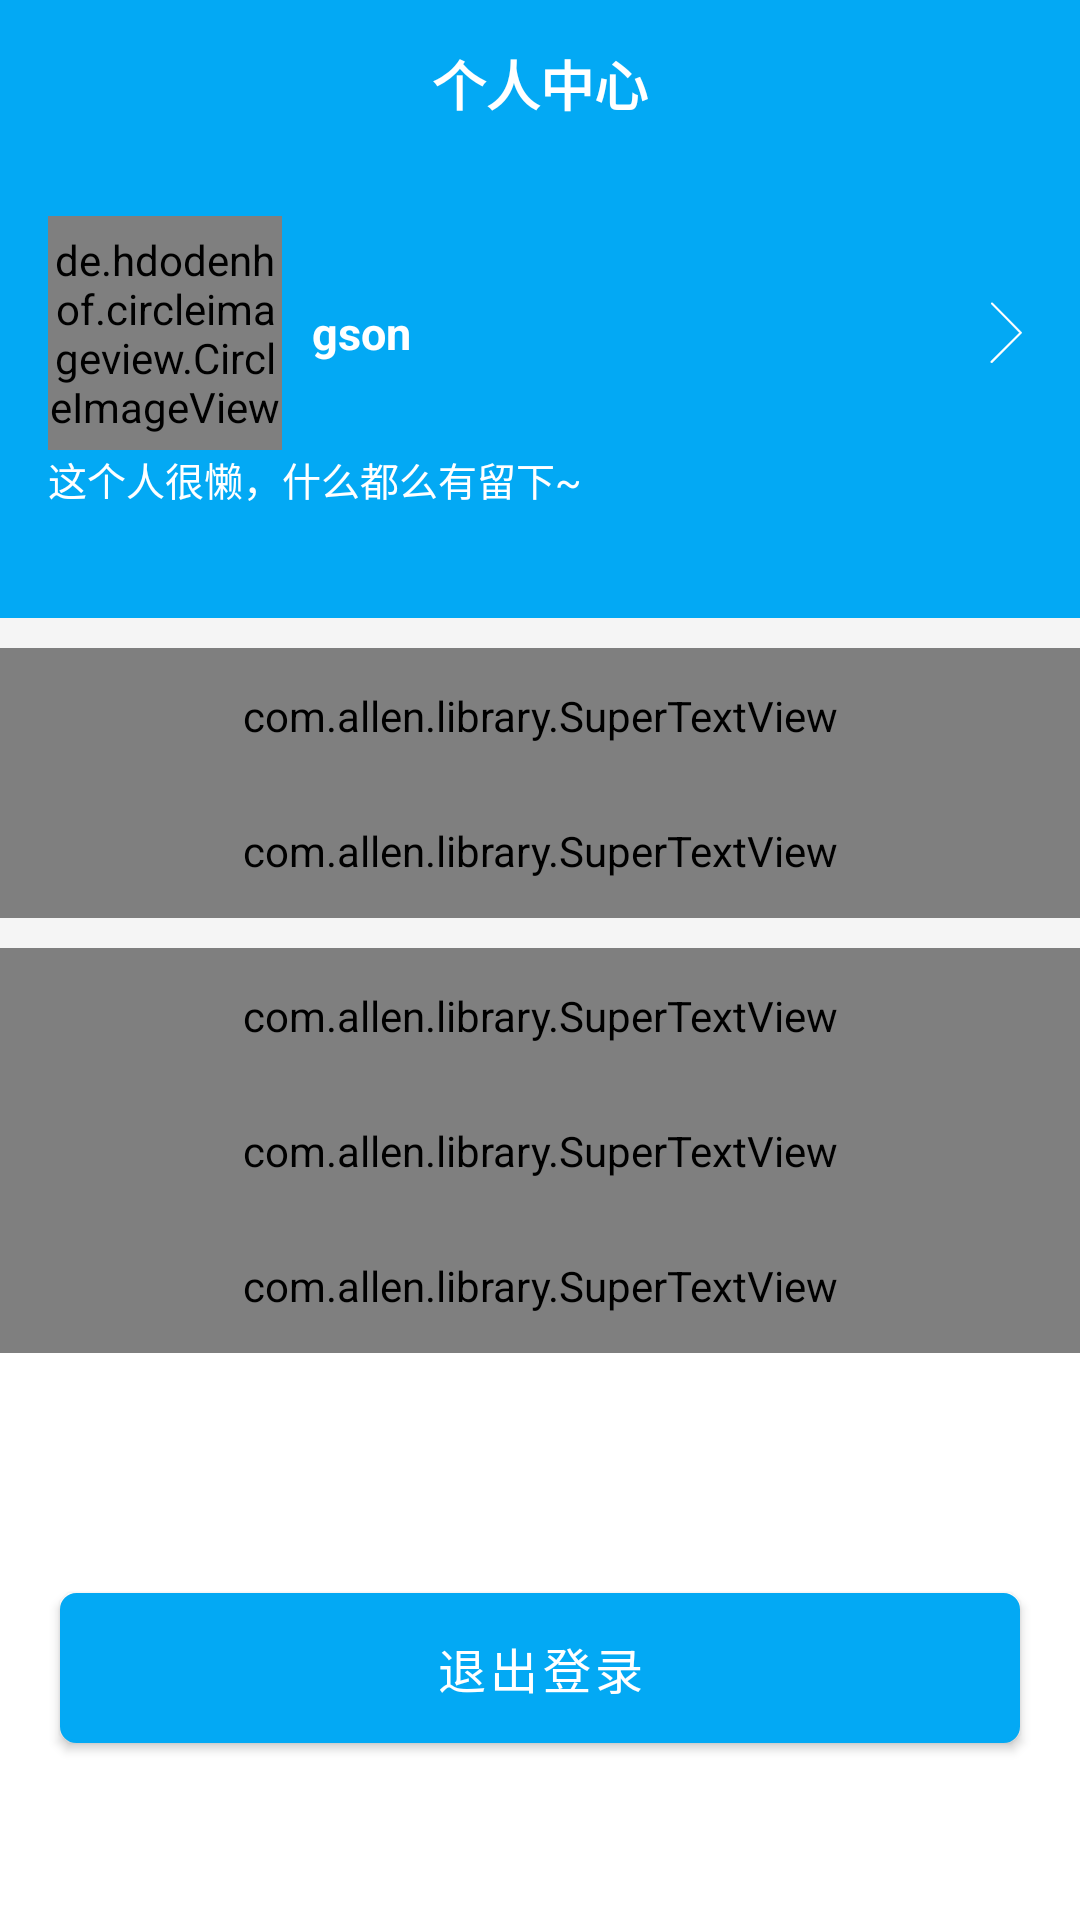

Icons on this 1080px×1920px Android screen, each with the point to tap as [x,y]:
jiantou: [1006,332]
